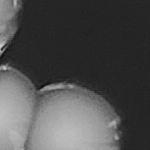colony: (21, 81, 133, 150), (0, 62, 46, 150), (0, 0, 30, 72)
